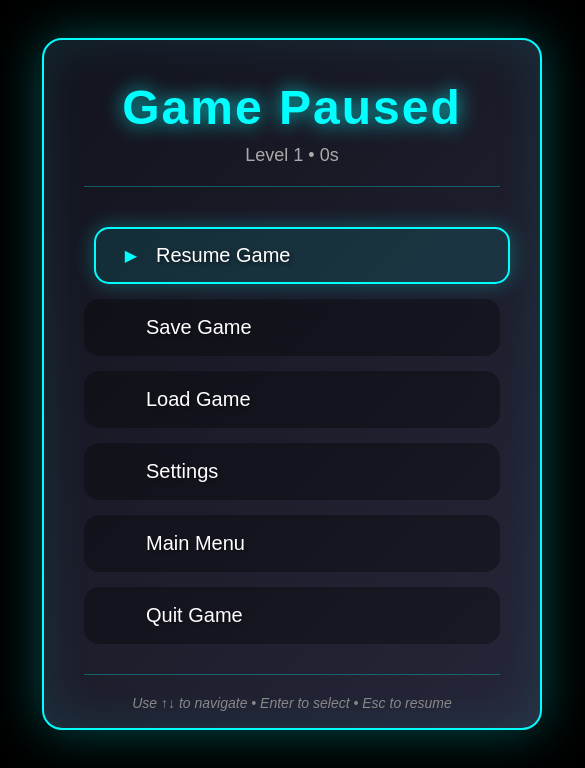
Test: InGamePauseMenu Component › shows confirmation dialog for quit game
The width and height of the screenshot is (585, 768).
Click the text "Quit Game".
click(194, 615)  # box [146,604,243,626]
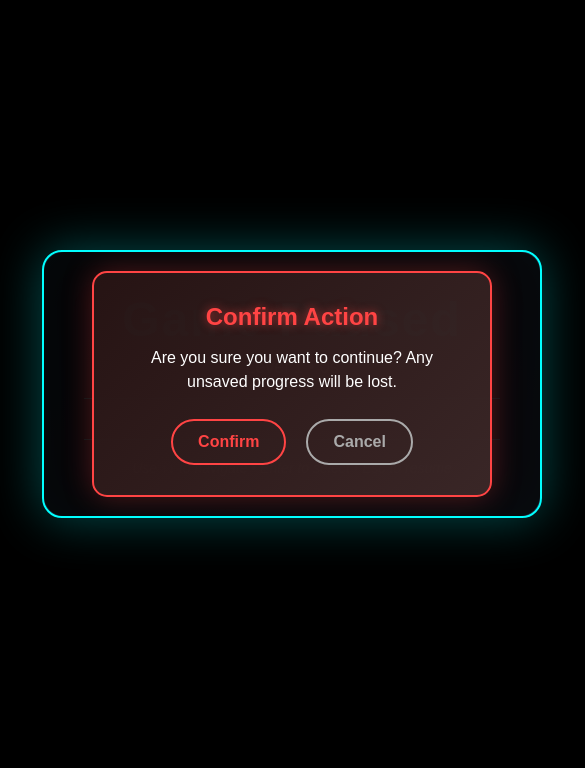
Result: the heading "Confirm Action" is shown at [206,303,378,330]
